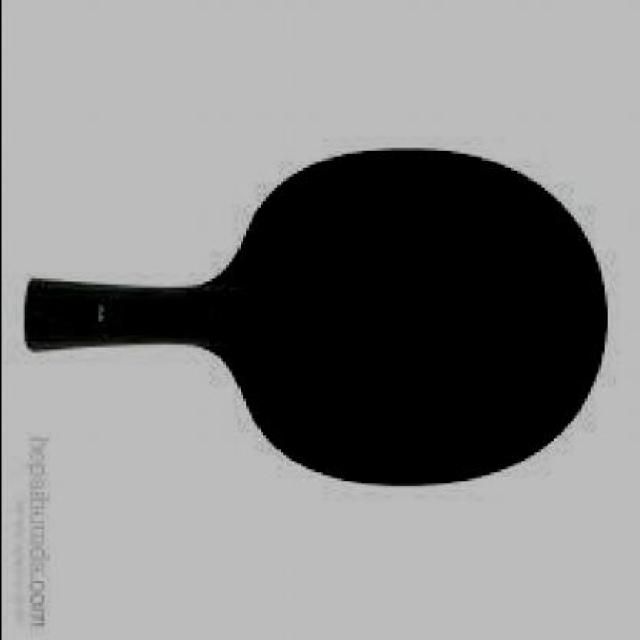table_tennis_racket: (220, 148, 614, 487)
